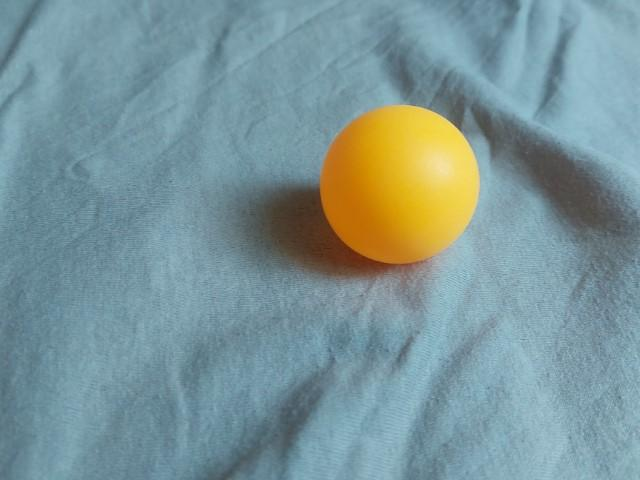oball: (310, 99, 490, 273)
